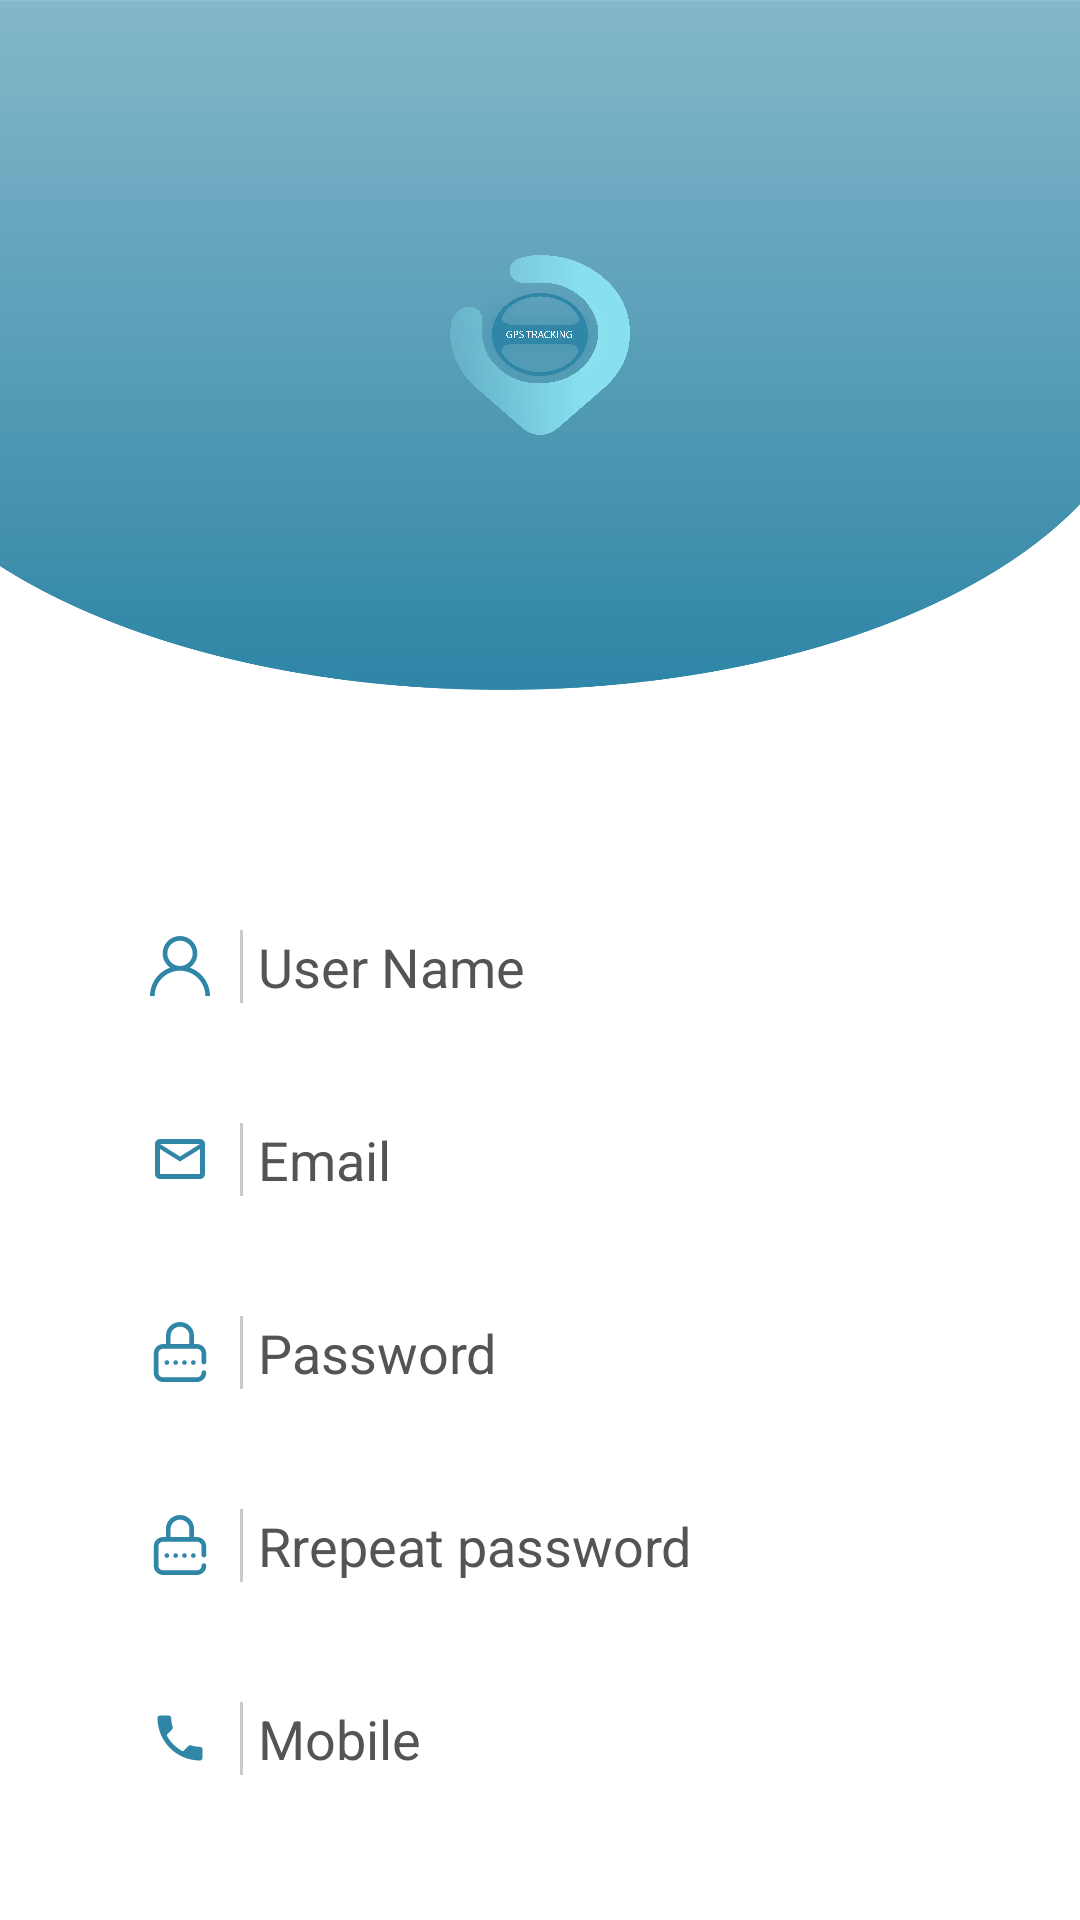

Where icons sit on this 1080px×1920px app screen, as (x1, y1, x2, y2):
local phone: (157, 1715, 203, 1761)
